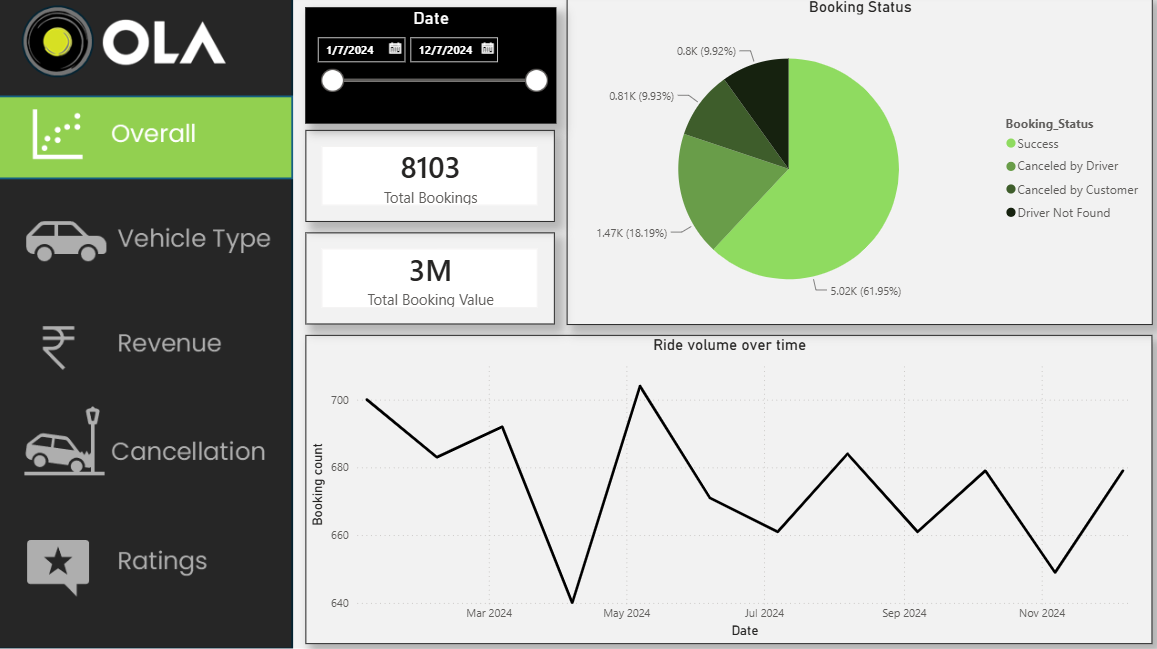

Layout of this report page (visuals, bound fields, positions):
{"tool":"powerbi","page":{"name":"Overall","canvas":[1280,720],"ordinal":0},"visuals":[{"type":"actionButton","box":[0,111.9,323.8,88.1],"z":0},{"type":"actionButton","box":[0,200,323.8,121.4],"z":1000},{"type":"actionButton","box":[0,321.4,323.8,119],"z":2000},{"type":"actionButton","box":[0,440.5,323.8,123.8],"z":3000},{"type":"actionButton","box":[0,564.3,323.8,156],"z":4000},{"type":"lineChart","title":"Ride volume over time","fields":{"Y":["CountNonNull(ola.Booking_ID)"],"Category":["ola.Date"]},"box":[338.1,372.6,929.8,339.3],"z":5000},{"type":"pieChart","title":"Booking Status","fields":{"Category":["ola.Booking_Status"],"Y":["CountNonNull(ola.Booking_Status)"]},"box":[625,1.2,642.9,360.7],"z":6000},{"type":"cardVisual","title":"Booking Status","fields":{"Data":["CountNonNull(ola.Booking_ID)"]},"box":[338.1,148.8,273.8,101.2],"z":7000},{"type":"slicer","title":"Date","fields":{"Values":["ola.Date"]},"box":[336.9,13.1,275,127.4],"z":8000},{"type":"cardVisual","title":"Booking Status","fields":{"Data":["Sum(ola.Booking_Value)"]},"box":[338.1,260.7,273.8,101.2],"z":9000}]}

Visuals, with their boxes in screenshot pixels (x1, y1, x2, y2), scaled from the page's 1280x720 canvas onto the 1157x649 screenshot:
actionButton: locate(0, 101, 293, 180)
actionButton: locate(0, 180, 293, 290)
actionButton: locate(0, 290, 293, 397)
actionButton: locate(0, 397, 293, 509)
actionButton: locate(0, 509, 293, 648)
"Ride volume over time" lineChart: locate(306, 336, 1146, 642)
"Booking Status" pieChart: locate(565, 1, 1146, 326)
"Booking Status" cardVisual: locate(306, 134, 553, 225)
"Date" slicer: locate(305, 12, 553, 127)
"Booking Status" cardVisual: locate(306, 235, 553, 326)
